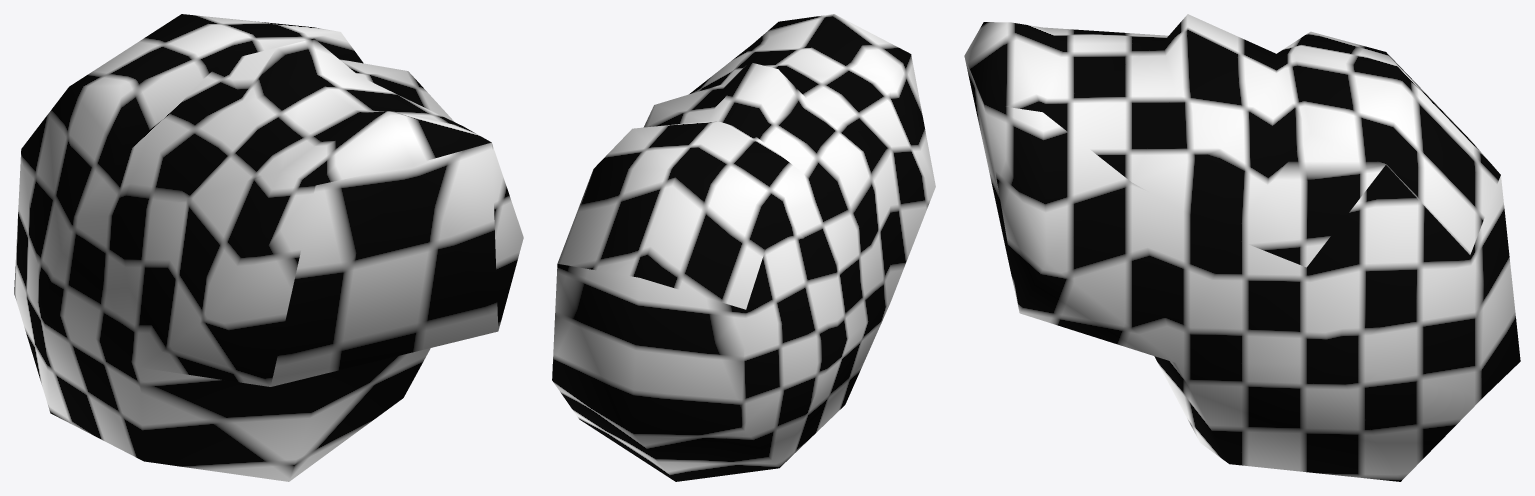
File: infaunhuma27.dae
3 views of the same model, side by side, from view 1: azimuth 30°, elevation 25°; view 2: azimuth 150°, elevation 25°; view 3: azimuth 270°, elevation 25° (orthographic). The views are drawn at different scales.
Visible parts, largest first — view 1: face; view 2: face; view 3: face.
Boxes of the visible parts, x1,y1,x2,y2 form: face: (14,14,523,481); face: (552,14,935,481); face: (964,14,1520,481).
Bounding box in the file's own units: 0.9694 × 1.41 × 1.24.
Materials: 1 (1 with a texture image).
